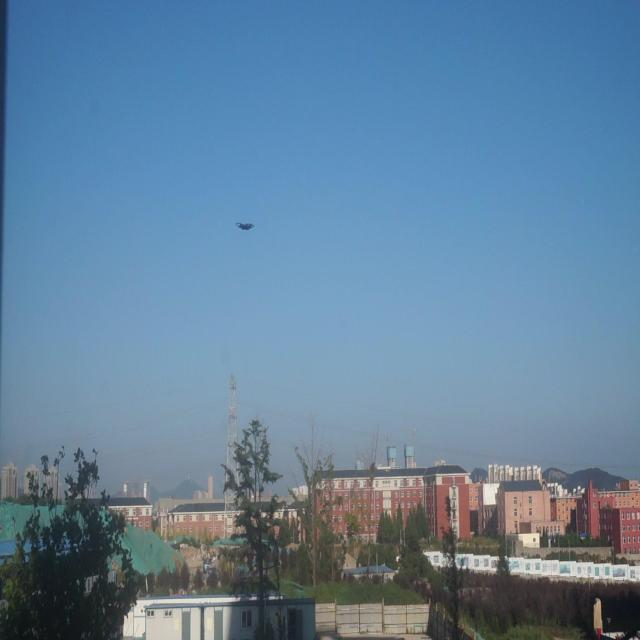drone: (235, 220, 256, 235)
